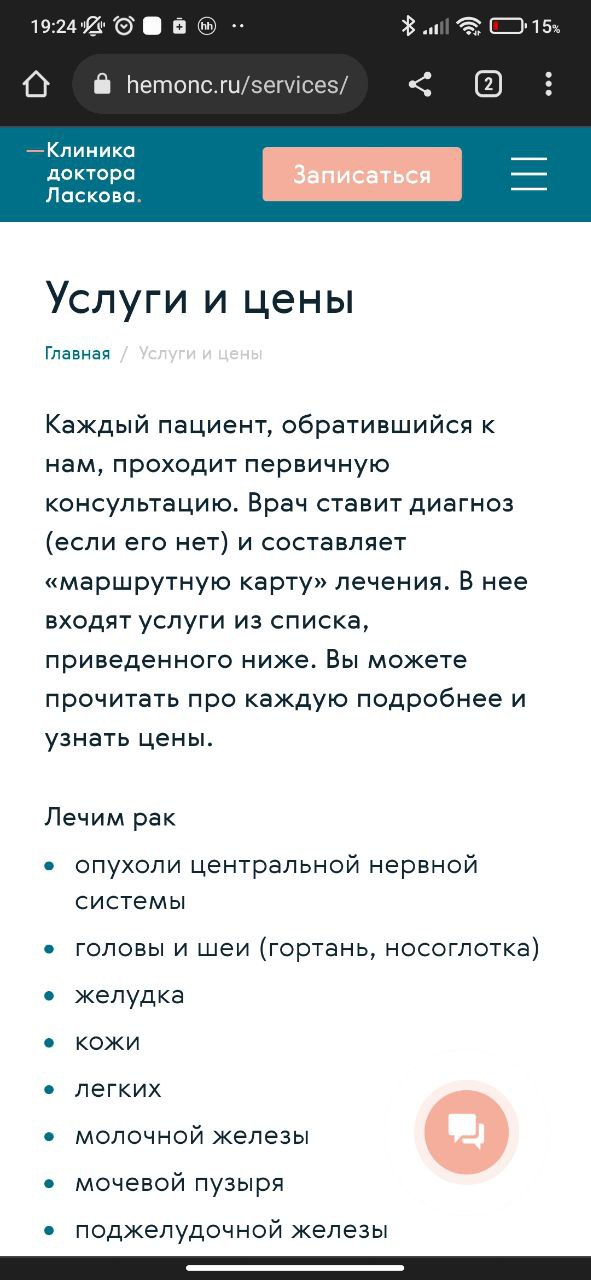burger_menu: (506, 152, 553, 198)
